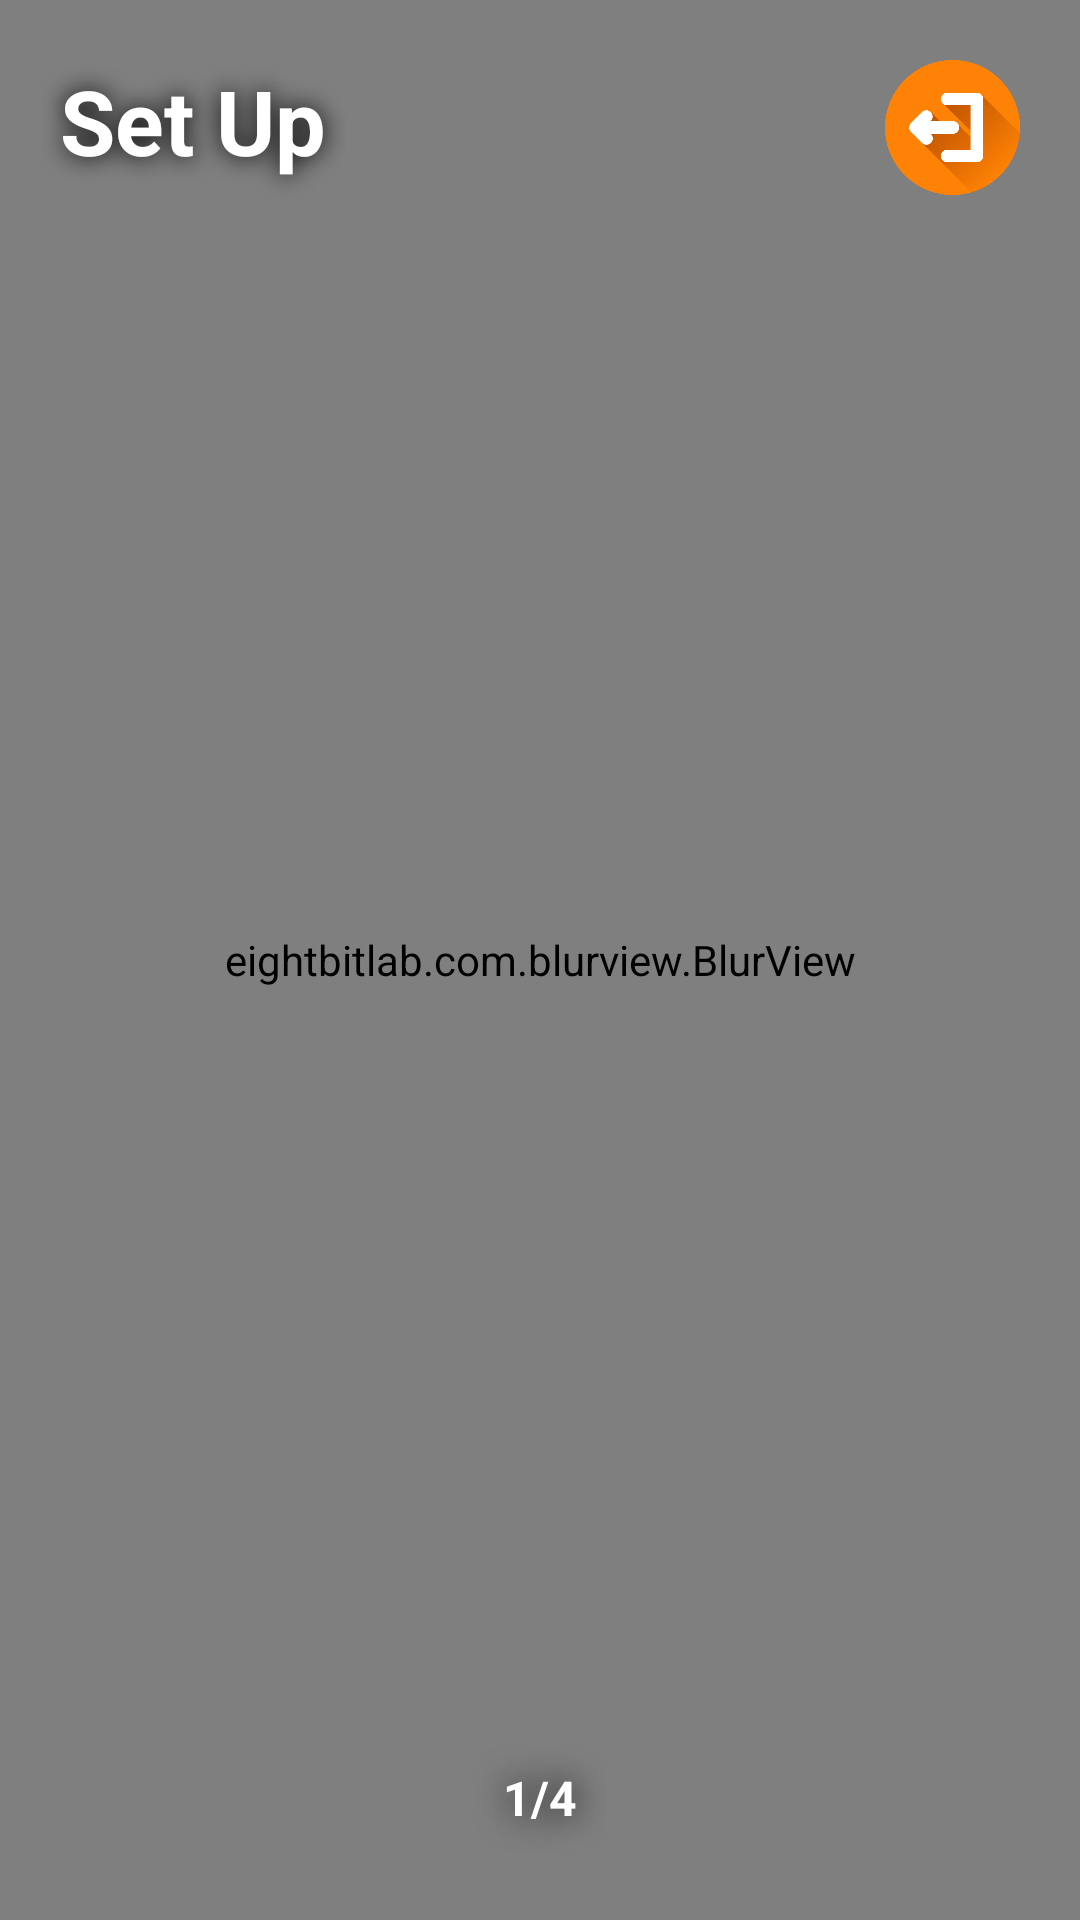

Icons on this 1080*1920 Android screen, each with the point to tap as (x,y):
sign out: (952,127)
